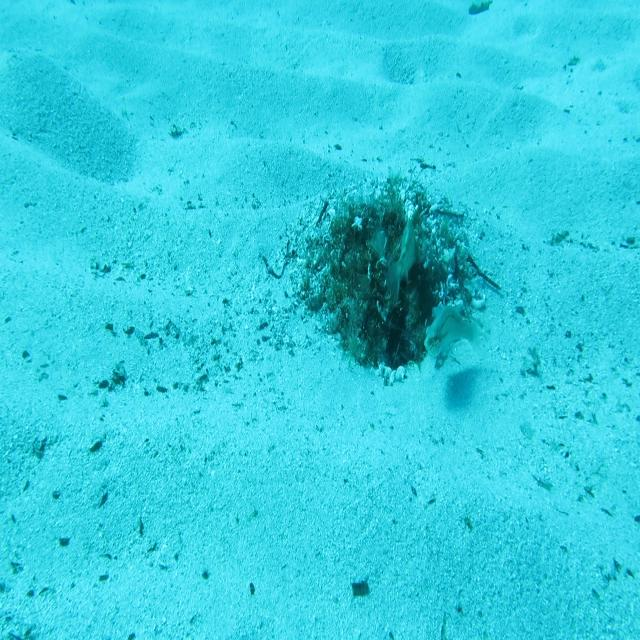NIP_IN: (385, 215, 419, 306)
core_nest: (356, 220, 406, 272)
female: (423, 301, 484, 361)
nest: (280, 166, 496, 399)
vegetation: (348, 578, 373, 601), (468, 0, 494, 17)
